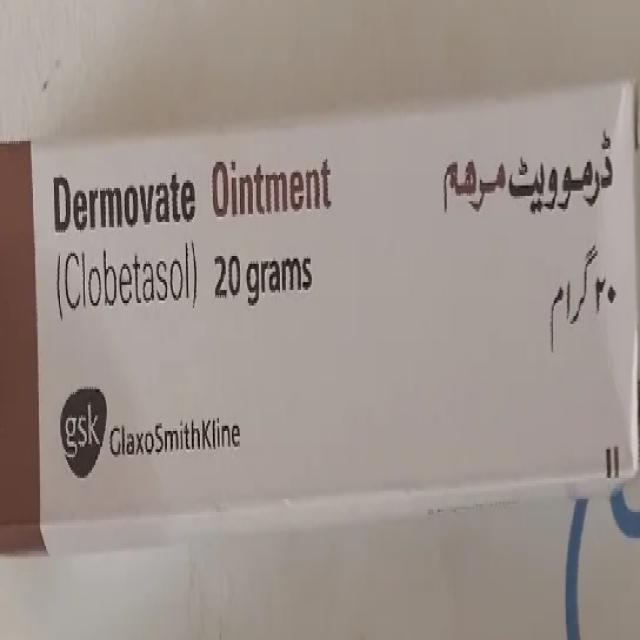drug-name: (51, 158, 340, 233)
